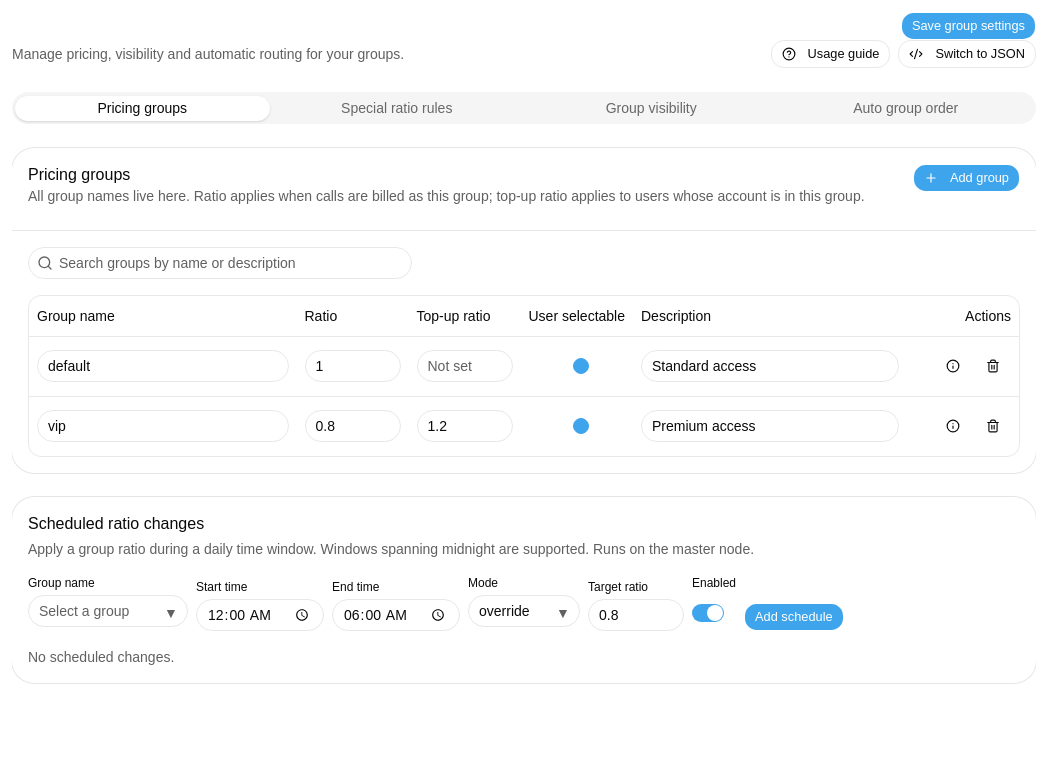
Test: group settings workspace › filters by description and clears search without discarding edits
The image size is (1048, 780).
Type "PREMIUM" into the field labelled "Search groups by name or description".
click(232, 263); type("PREMIUM")  # box x1=53 y1=247 x2=411 y2=279
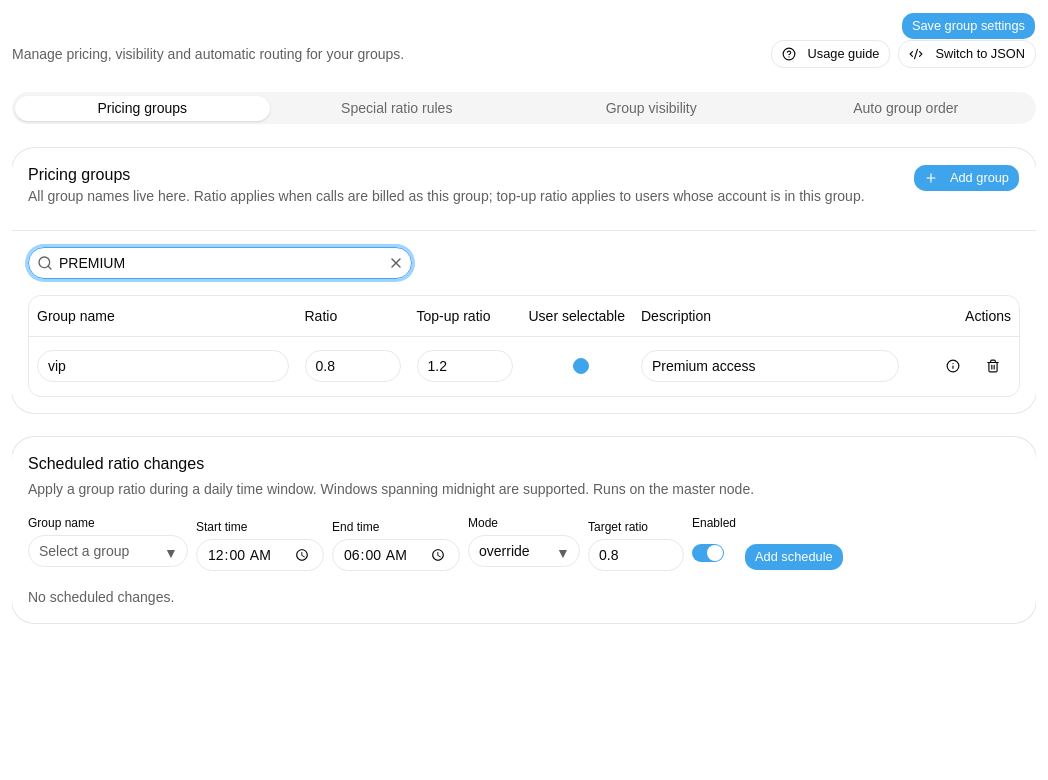
expect the number of fields named "Group name" is 1: met, box x1=37 y1=350 x2=288 y2=382
expect the field named "Group name" holds "vip": met, box x1=37 y1=350 x2=288 y2=382
Replace the text in the number field named "Ratio" with "0.6" at x=352, y=366, box x1=304 y1=350 x2=400 y2=382
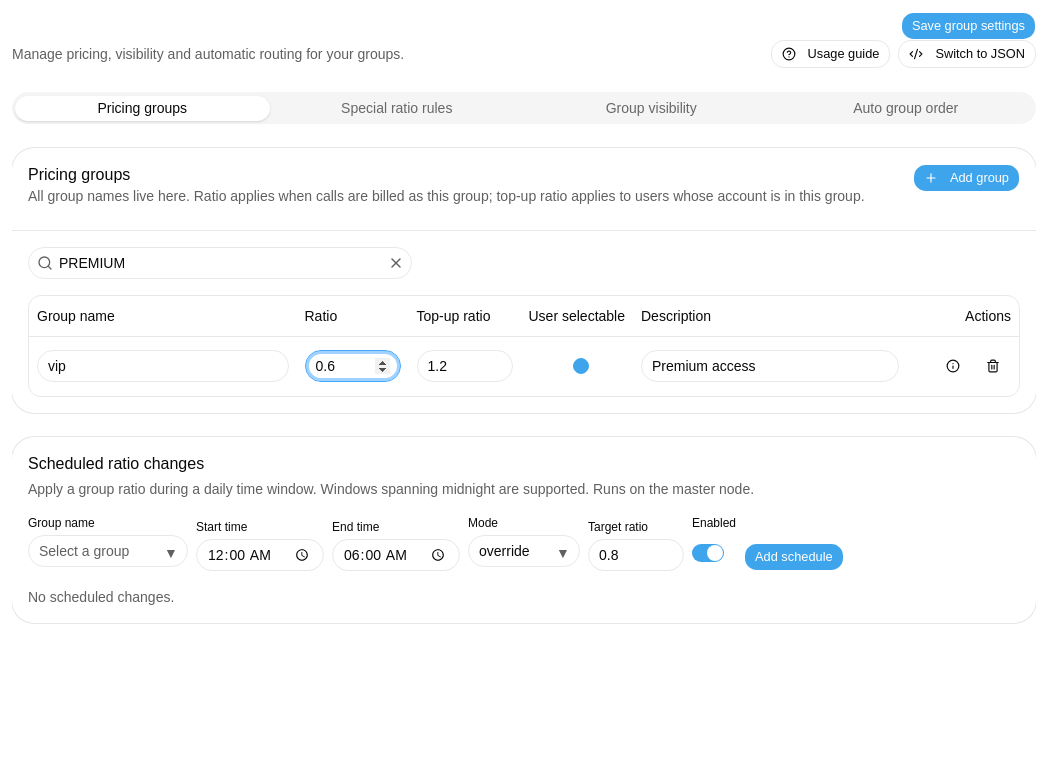
Click the button named "Clear search".
click(396, 263)  # box x1=384 y1=251 x2=408 y2=275
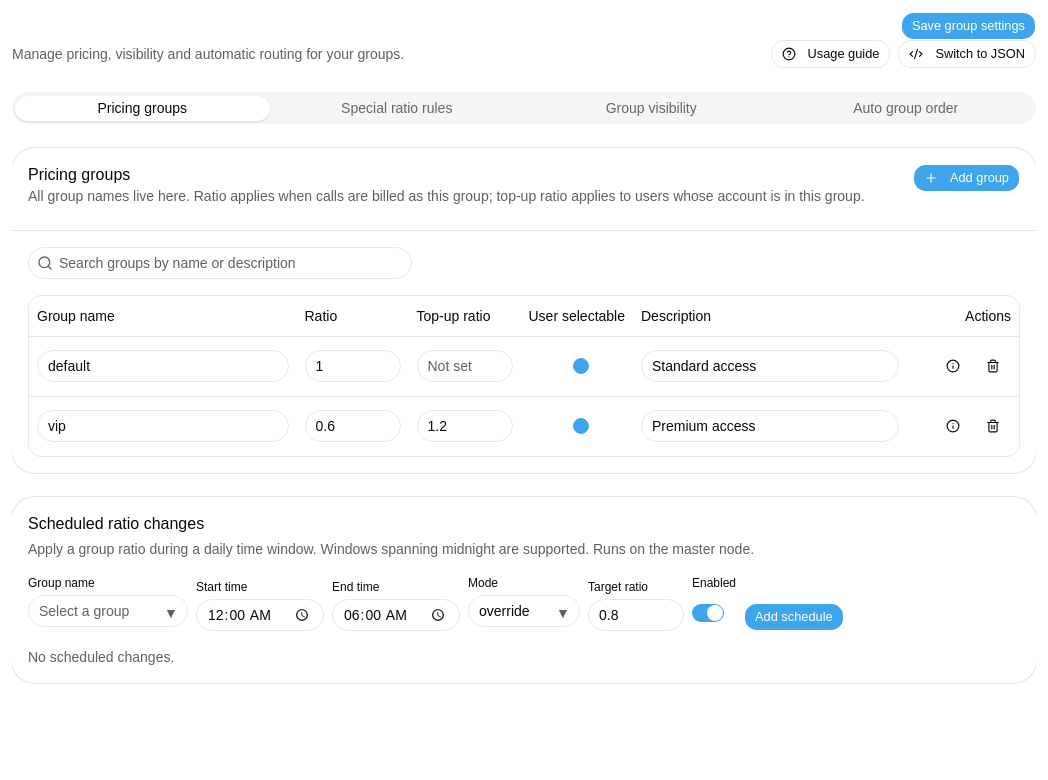
expect the number of fields named "Group name" is 2: met, box x1=37 y1=350 x2=288 y2=382; x1=37 y1=410 x2=288 y2=442
Type "missing" into the field labelled "Search groups by name or description".
click(232, 263); type("missing")  # box x1=53 y1=247 x2=411 y2=279
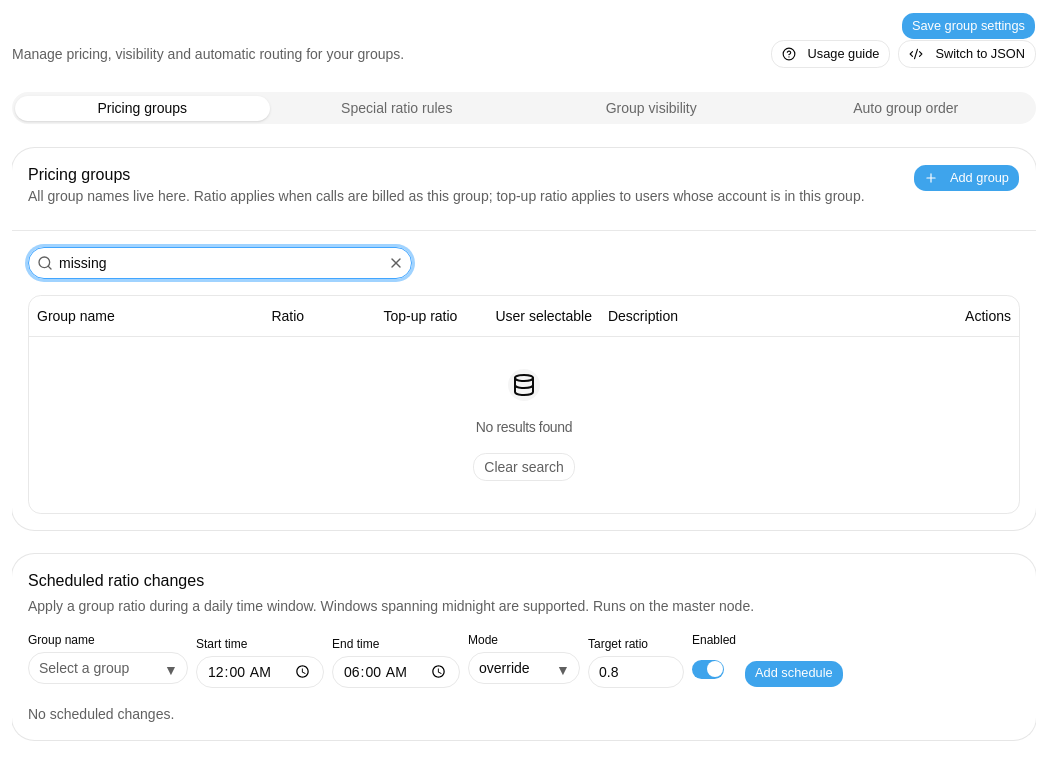
expect the text "No results found" is shown: met, box x1=476 y1=416 x2=572 y2=436
Click the button "Add group".
click(966, 178)  # box x1=913 y1=164 x2=1020 y2=192
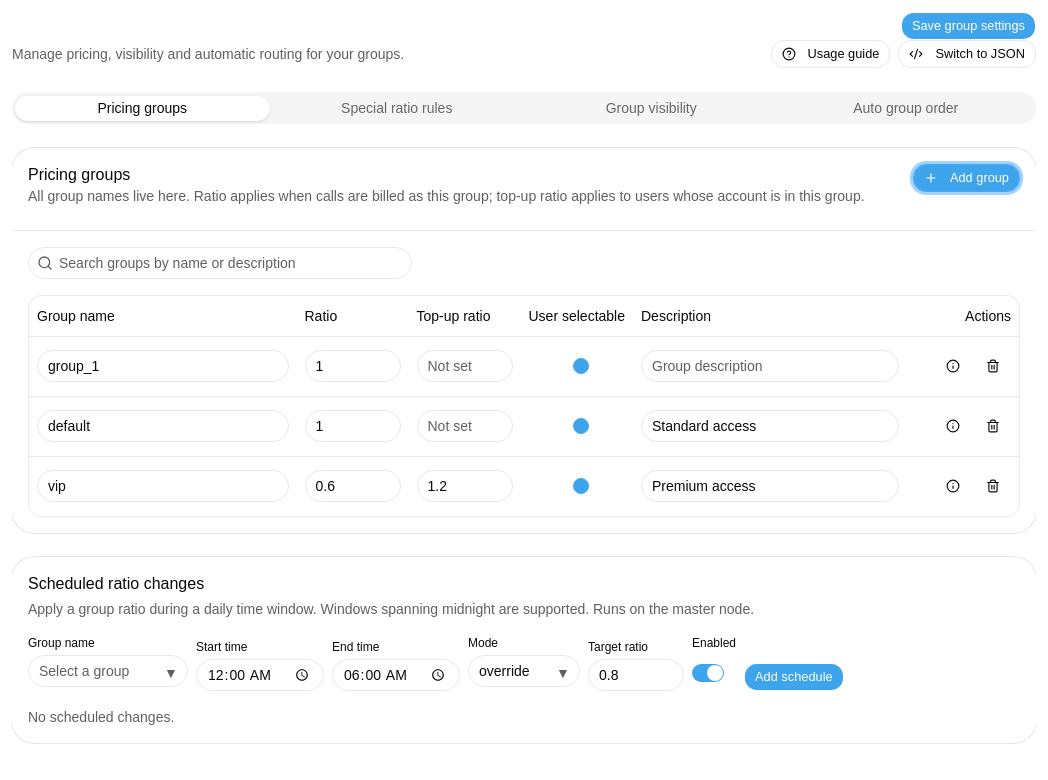
expect the field labelled "Search groups by name or description" is empty: met, box x1=53 y1=247 x2=411 y2=279
expect the 3rd number field named "Ratio" holds "0.6": met, box x1=304 y1=470 x2=400 y2=502
